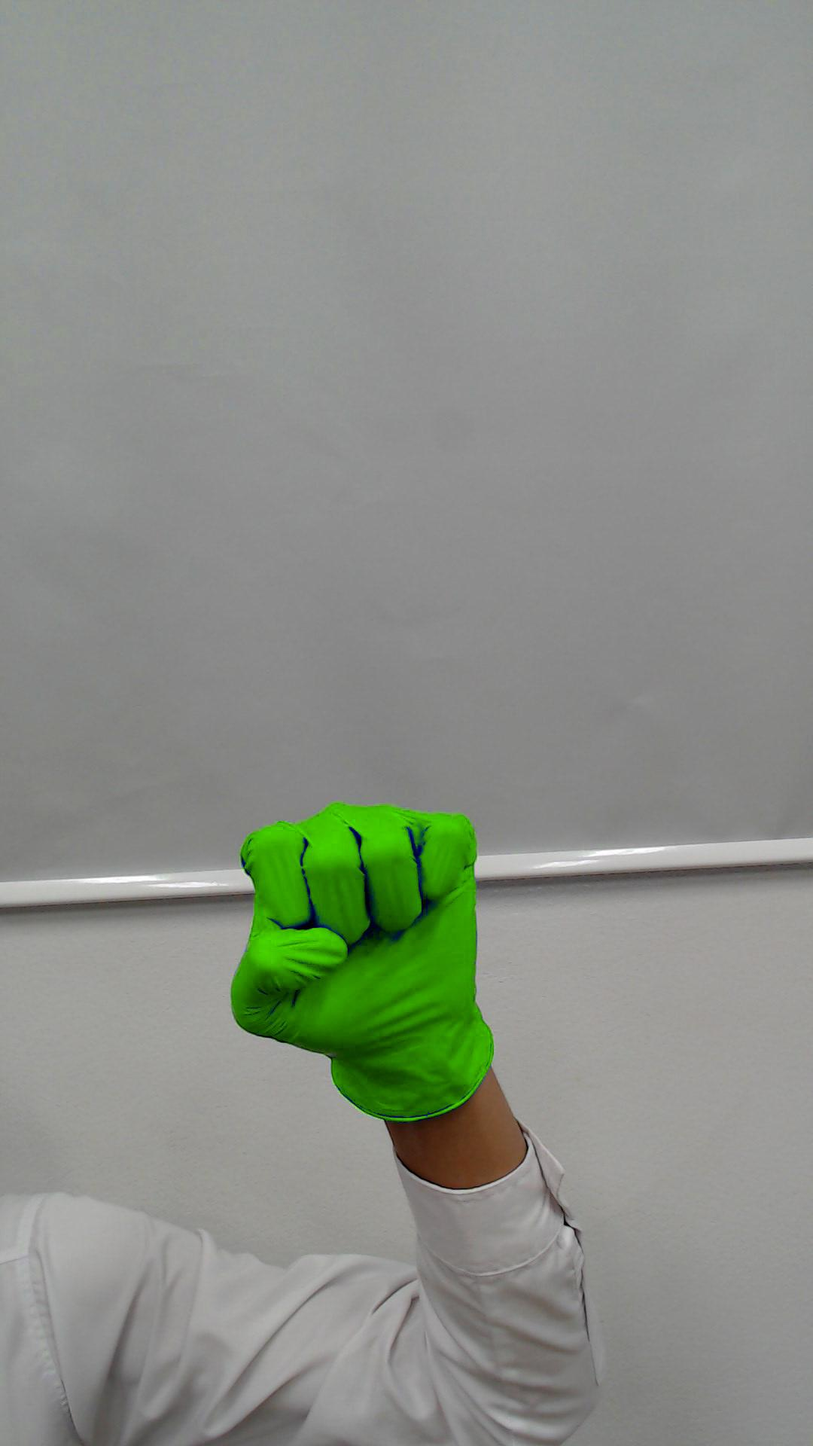gloves: (227, 795, 490, 1073)
